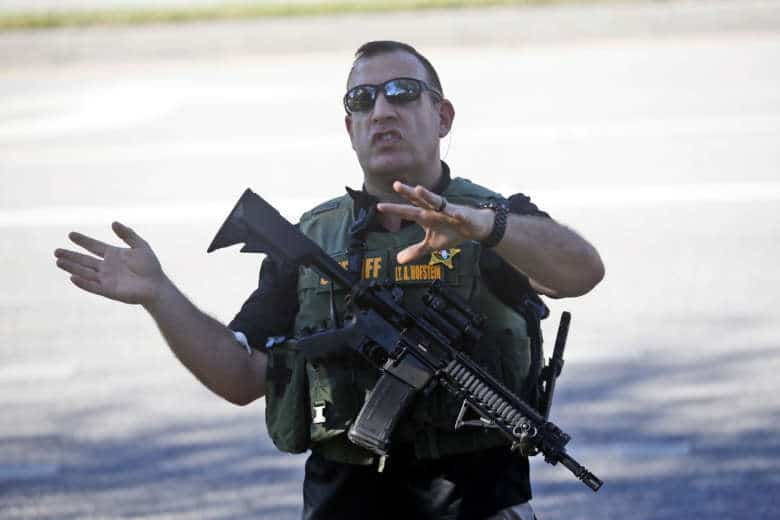Gun: (321, 269, 571, 468)
